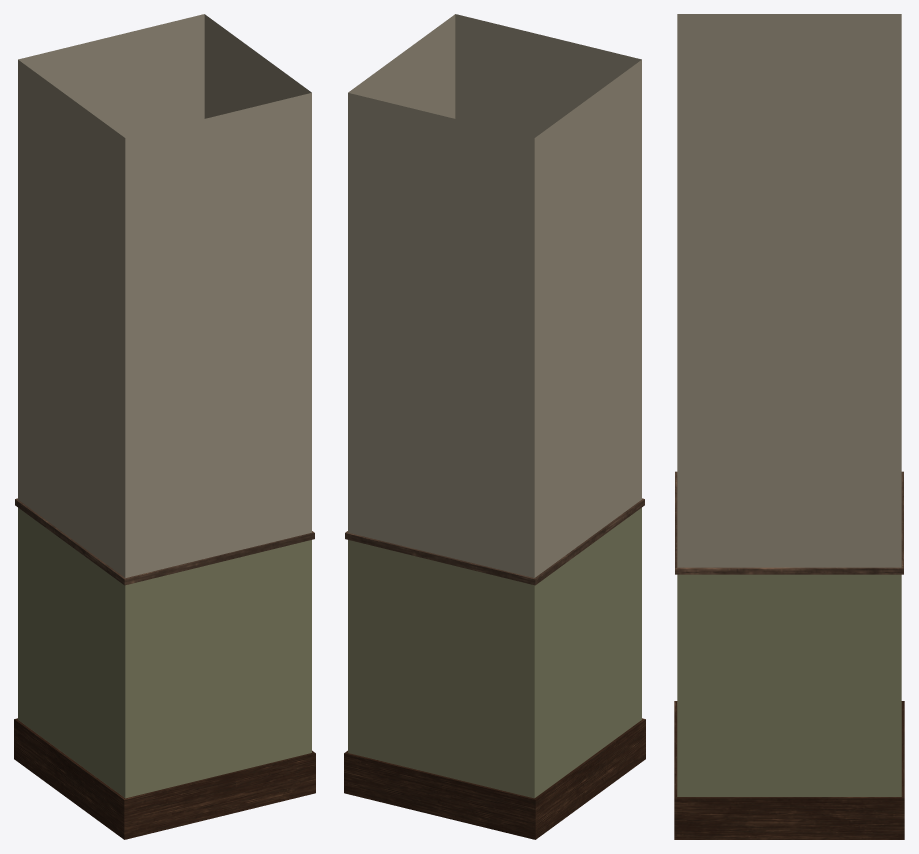
Rendered from Full_Pillar.fbx.
The picture shows the model from 3 angles, left to right: view 1: azimuth 30°, elevation 25°; view 2: azimuth 150°, elevation 25°; view 3: azimuth 270°, elevation 25°; orthographic projection. The views are drawn at different scales.
Parts seen in each view (by area): view 1: Half_Pillar.001; view 2: Half_Pillar.001; view 3: Half_Pillar.001.
Part boxes in pixels (x1=…): Half_Pillar.001: x1=14, y1=14, x2=315, y2=839; Half_Pillar.001: x1=344, y1=14, x2=645, y2=839; Half_Pillar.001: x1=674, y1=14, x2=904, y2=839.
Size of the model in its own units: 100 by 350 by 100.
